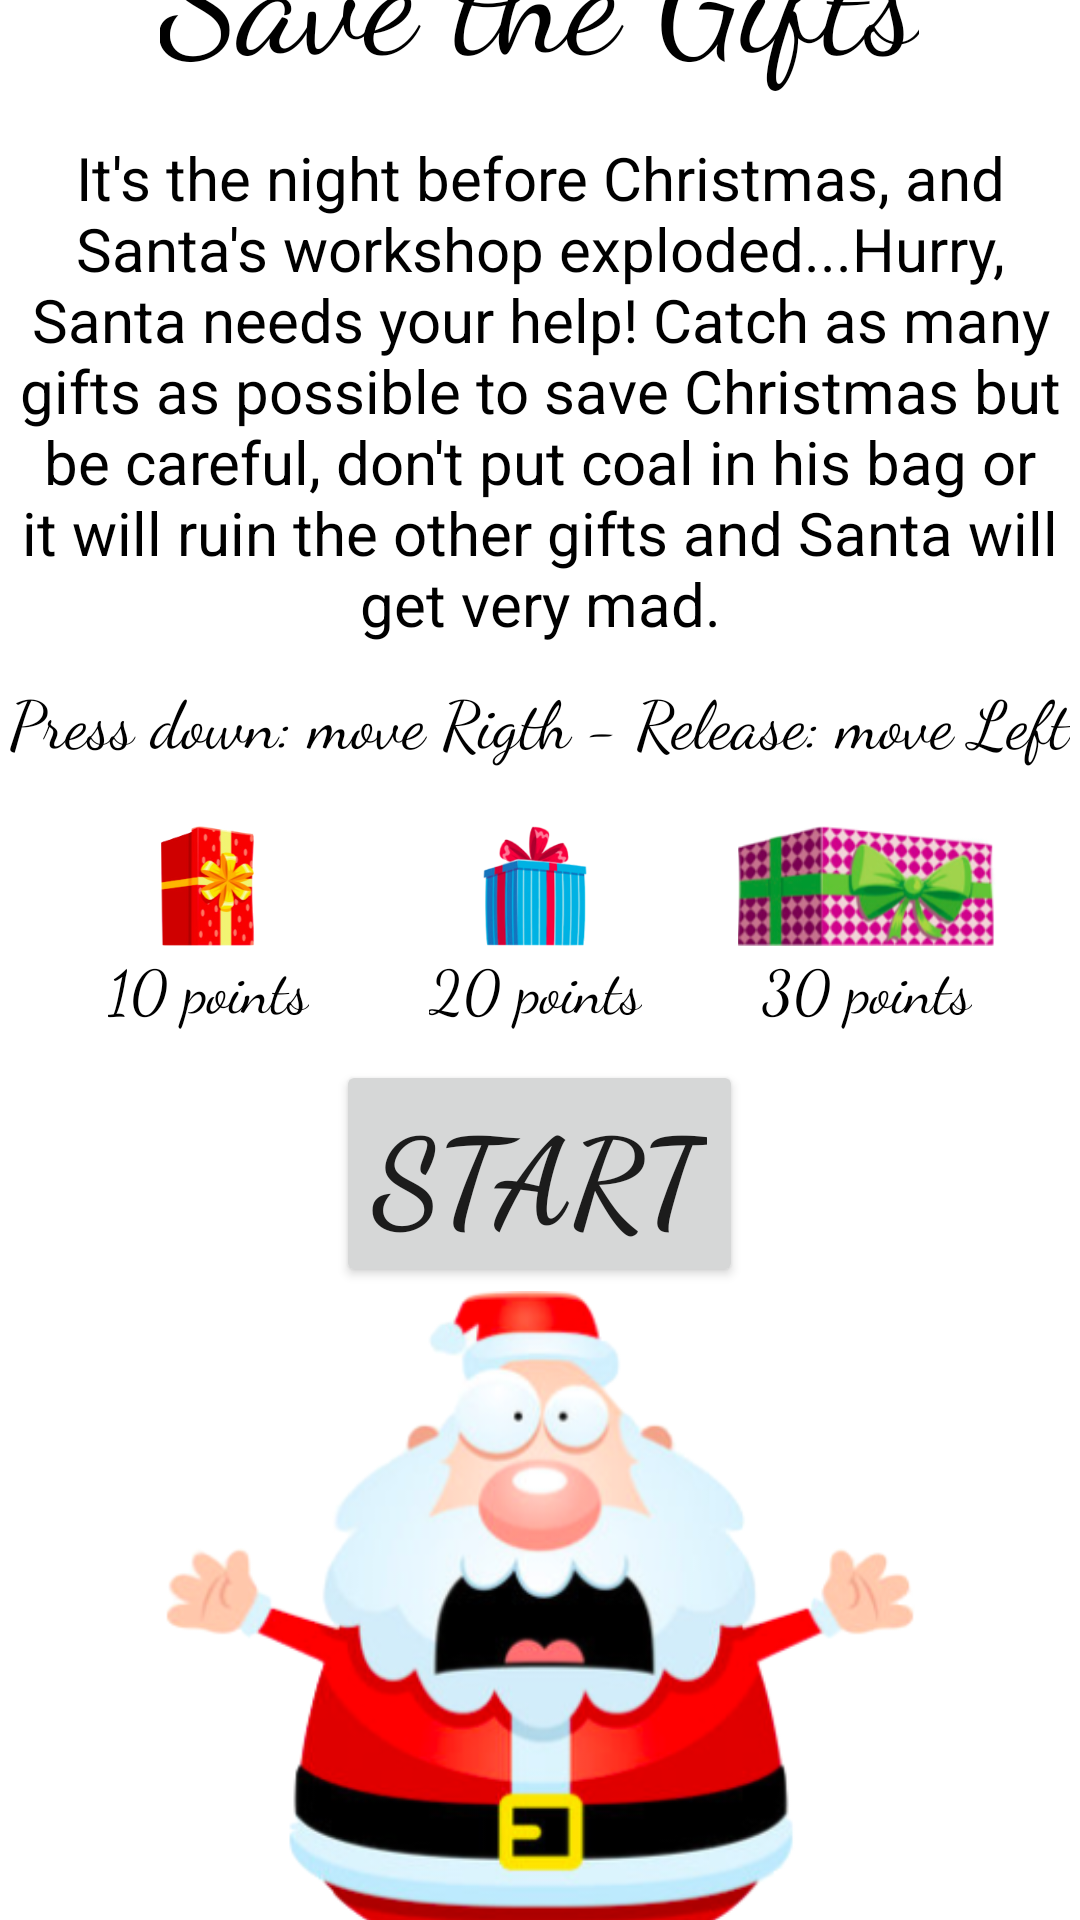

Screen size 1080px x 1920px. Icon name, then its box in pixels as (x1, y1, x2, y2):
gift: (161, 826, 254, 946), (483, 826, 587, 946), (738, 826, 994, 946)
